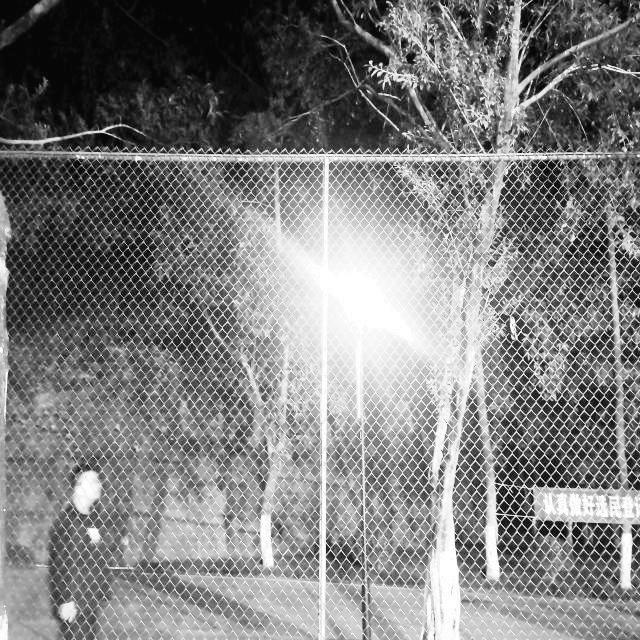Light: (330, 259, 389, 640)
Person: (47, 464, 116, 640)
Tree: (418, 3, 521, 638)
